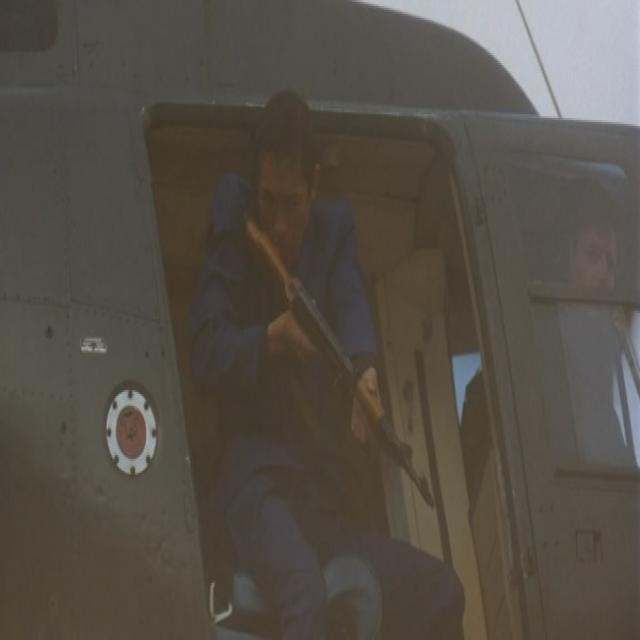rifle: (241, 211, 441, 522)
